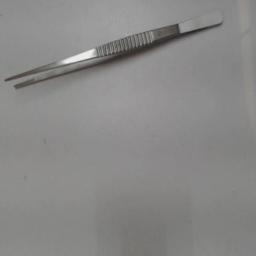DeBakey Dissector: (2, 3, 238, 99)
